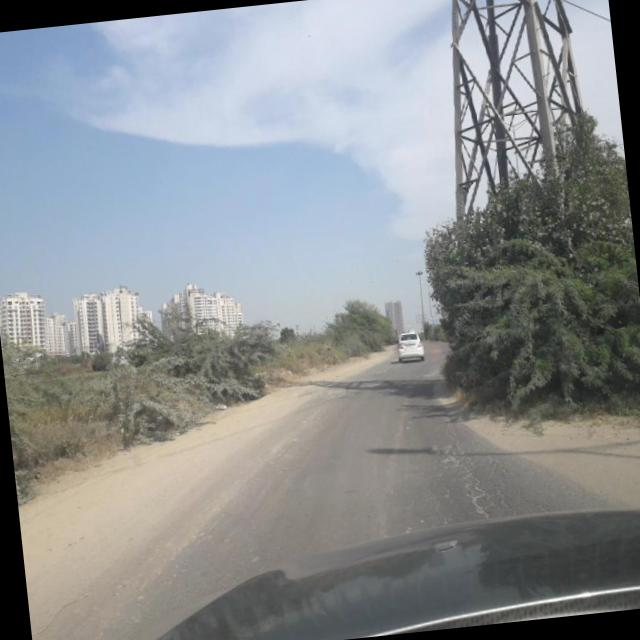crack: (424, 390, 544, 524)
